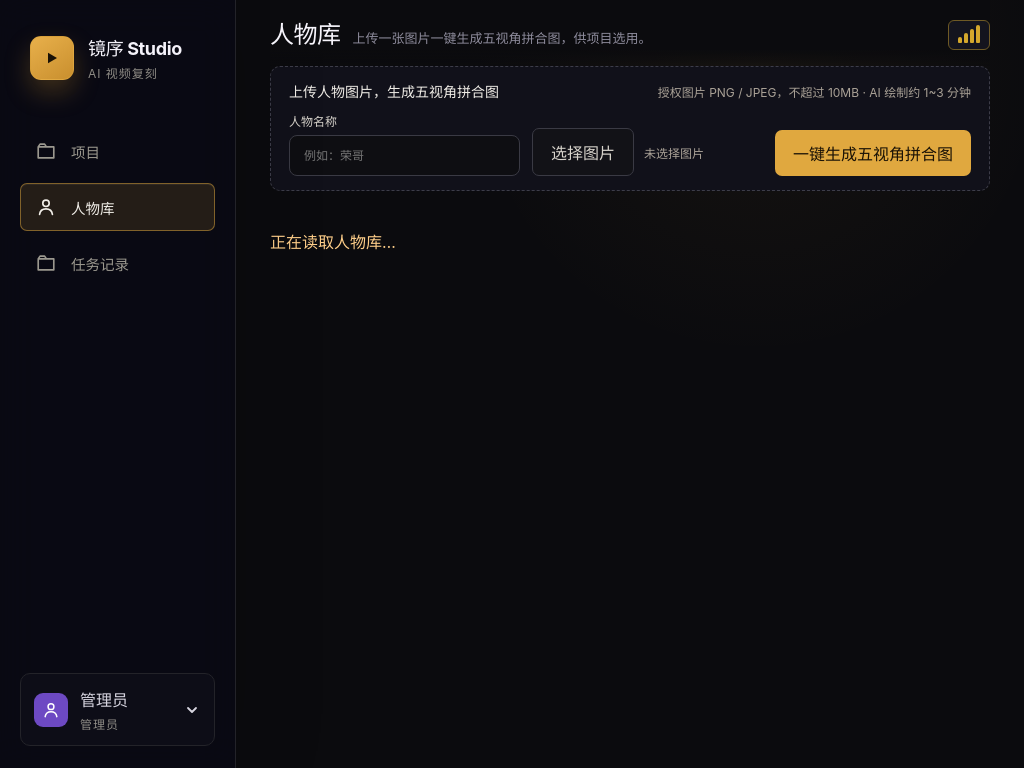
Test: App › restores an allowed deep link and renders one shared workspace shell
Check: the heading "人物库" is shown, box [270,20,341,50]
Check: the button "项目" is enabled, box [20,127,215,175]
Click the button with aria-label "用户菜单". click: (118, 710)
box: [20,673,215,746]
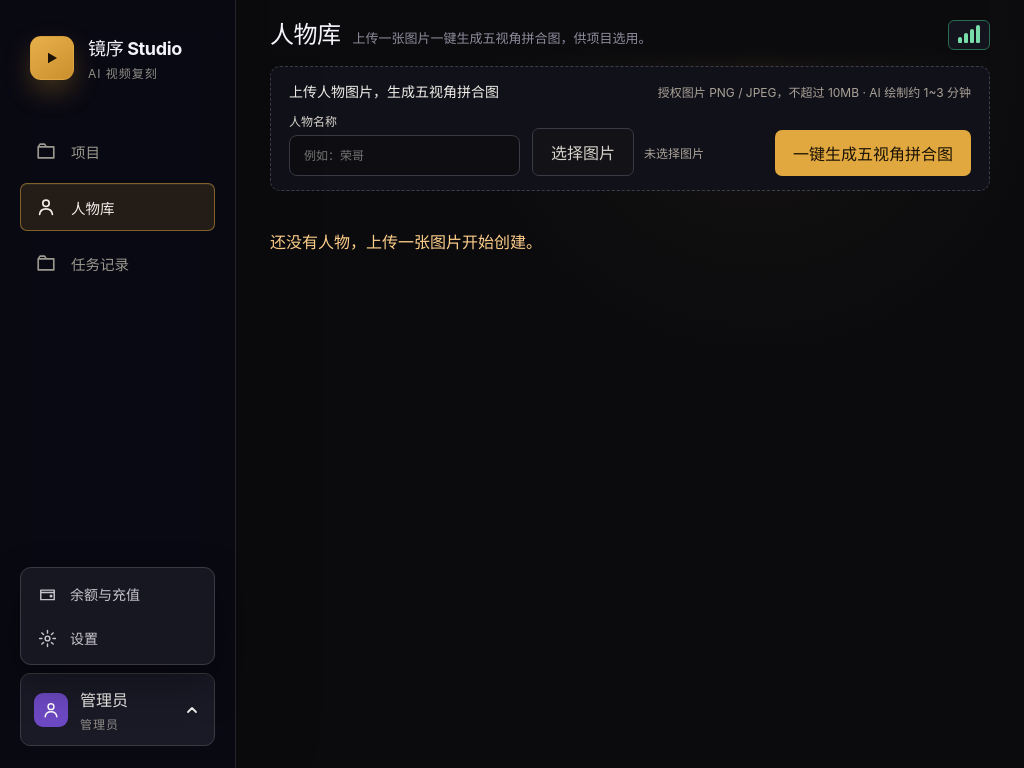
Check: the button "余额与充值" is enabled, box [27,574,208,614]
Check: the button "设置" is enabled, box [27,618,208,658]
